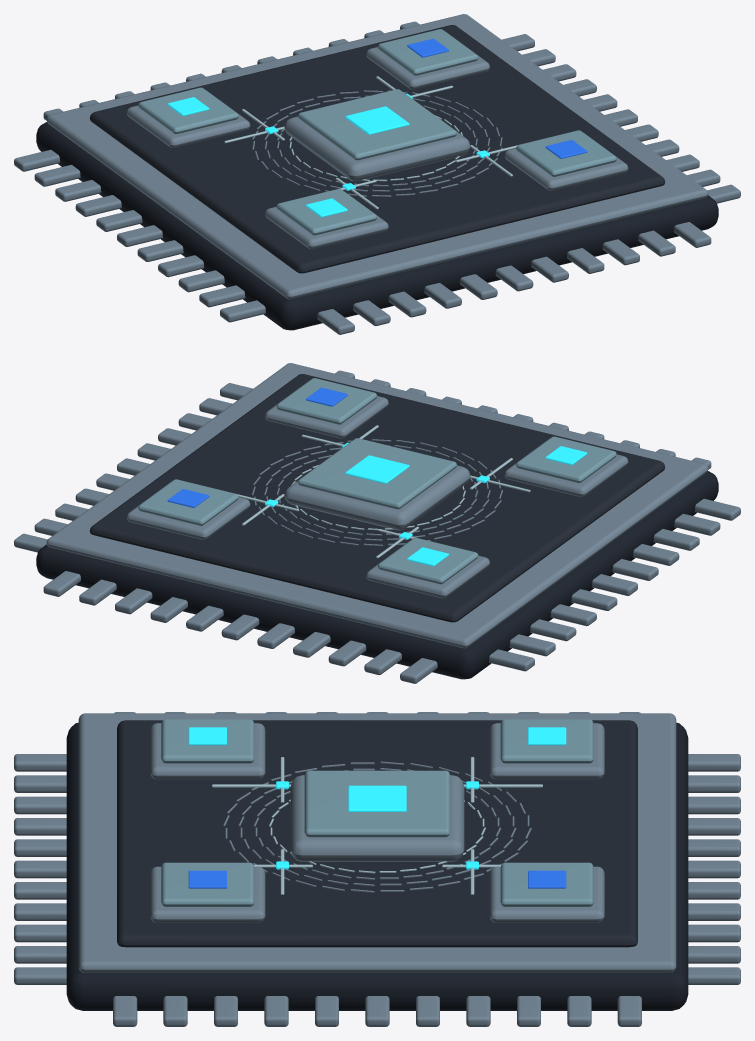
Rendered from executive-core.glb.
3 views of the same model, one above another, from view 1: azimuth 30°, elevation 25°; view 2: azimuth 150°, elevation 25°; view 3: azimuth 270°, elevation 25° (orthographic). The views are drawn at different scales.
Visible parts, largest first — view 1: Inner graphite die, Machined perimeter ring, Main ceramic substrate, Controller smoked glass, Raised central controller, Executive node 01 frosted glass, Executive node 02 frosted glass, Executive node 03 frosted glass, Executive node 04 frosted glass, Executive node 01 metal cradle, Executive node 04 metal cradle, Executive node 02 metal cradle (+24 smaller); view 2: Inner graphite die, Machined perimeter ring, Main ceramic substrate, Controller smoked glass, Raised central controller, Executive node 03 frosted glass, Executive node 04 frosted glass, Executive node 01 frosted glass, Executive node 02 frosted glass, Executive node 02 metal cradle, Executive node 03 metal cradle, Executive node 04 metal cradle (+24 smaller); view 3: Inner graphite die, Machined perimeter ring, Main ceramic substrate, Controller smoked glass, Raised central controller, Executive node 01 frosted glass, Executive node 03 frosted glass, Executive node 02 frosted glass, Executive node 04 frosted glass, Executive node 01 metal cradle, Executive node 03 metal cradle, Executive node 02 metal cradle (+39 smaller).
Boxes of the visible parts, box(x1,y1,x2,y2) form: Inner graphite die: box(89, 25, 664, 273); Machined perimeter ring: box(46, 14, 708, 299); Main ceramic substrate: box(36, 122, 718, 330); Controller smoked glass: box(298, 89, 456, 160); Raised central controller: box(284, 116, 470, 181); Executive node 01 frosted glass: box(138, 87, 238, 133); Executive node 02 frosted glass: box(378, 29, 478, 75); Executive node 03 frosted glass: box(276, 189, 377, 235); Executive node 04 frosted glass: box(516, 130, 616, 176); Executive node 01 metal cradle: box(126, 90, 250, 148); Executive node 04 metal cradle: box(504, 133, 628, 190); Executive node 02 metal cradle: box(366, 35, 489, 89); Inner graphite die: box(90, 374, 665, 622); Machined perimeter ring: box(46, 363, 708, 648); Main ceramic substrate: box(36, 471, 718, 679); Controller smoked glass: box(298, 438, 456, 509); Raised central controller: box(284, 465, 470, 530); Executive node 03 frosted glass: box(516, 436, 616, 482); Executive node 04 frosted glass: box(276, 378, 376, 424); Executive node 01 frosted glass: box(377, 538, 478, 584); Executive node 02 frosted glass: box(138, 479, 238, 525); Executive node 02 metal cradle: box(126, 482, 250, 539); Executive node 03 metal cradle: box(504, 439, 628, 497); Executive node 04 metal cradle: box(265, 384, 388, 438); Inner graphite die: box(117, 720, 637, 947); Machined perimeter ring: box(78, 713, 676, 972); Main ceramic substrate: box(66, 722, 688, 1010); Controller smoked glass: box(304, 770, 450, 837); Raised central controller: box(290, 775, 464, 861); Executive node 01 frosted glass: box(500, 719, 593, 763); Executive node 03 frosted glass: box(161, 719, 254, 763); Executive node 02 frosted glass: box(500, 862, 593, 906); Executive node 04 frosted glass: box(161, 862, 254, 906); Executive node 01 metal cradle: box(489, 723, 604, 779); Executive node 03 metal cradle: box(150, 723, 265, 779); Executive node 02 metal cradle: box(489, 866, 604, 922).
Bounding box in the file's own units: 3.6 × 0.481 × 3.6.
